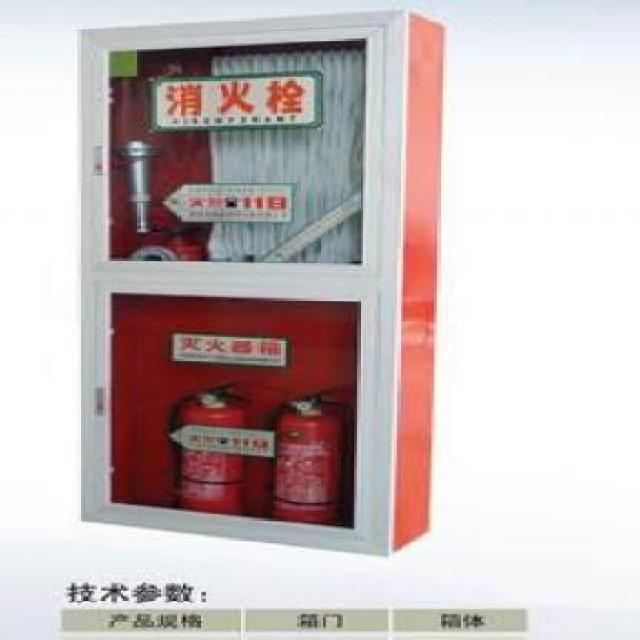firehydrant: (70, 3, 456, 561)
